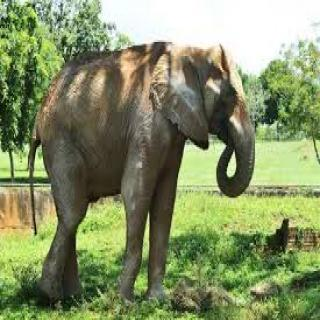Elephant: (24, 38, 260, 310)
